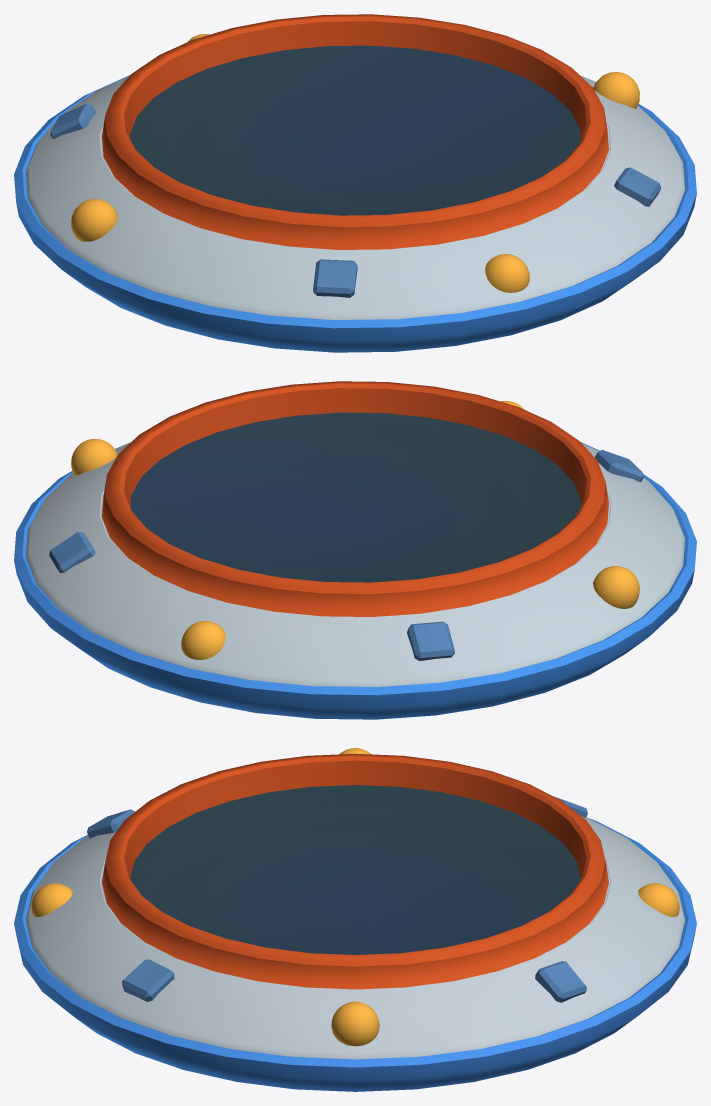
The model's file is disc.fbx.
The picture shows the model from 3 angles, top to bottom: view 1: azimuth 30°, elevation 25°; view 2: azimuth 150°, elevation 25°; view 3: azimuth 270°, elevation 25°; orthographic projection.
Visible parts, largest first — view 1: pSphere1; view 2: pSphere1; view 3: pSphere1.
Part boxes in pixels (x1,y1,x2,y2): pSphere1: [14, 14, 696, 352]; pSphere1: [14, 381, 696, 719]; pSphere1: [14, 748, 696, 1091].
Size of the model in its own units: 95.04 by 25.31 by 95.04.
1 material, 1 textured.
